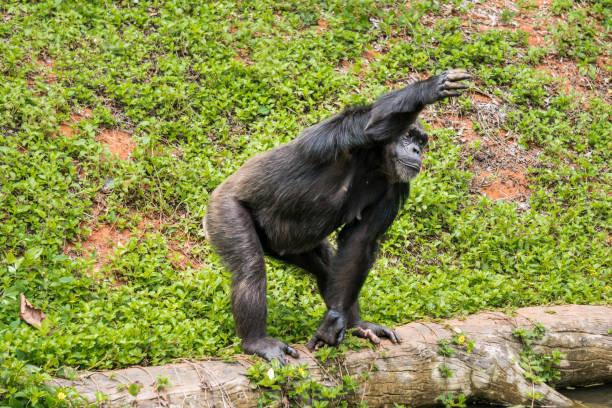chimpanzee: (385, 109, 446, 196)
